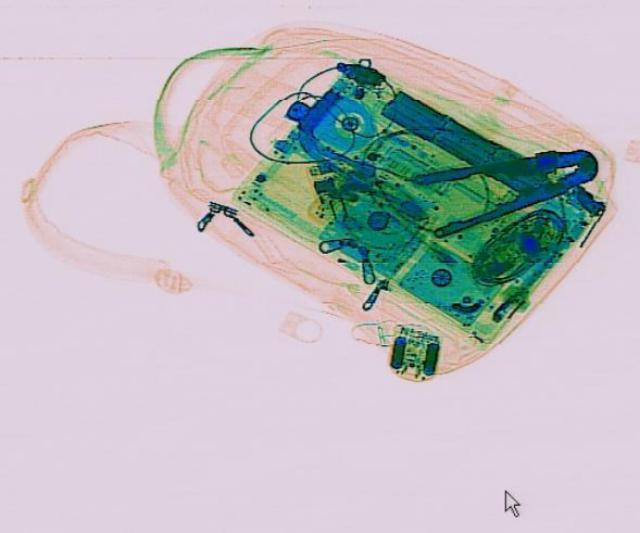Pliers: (408, 132, 608, 238)
